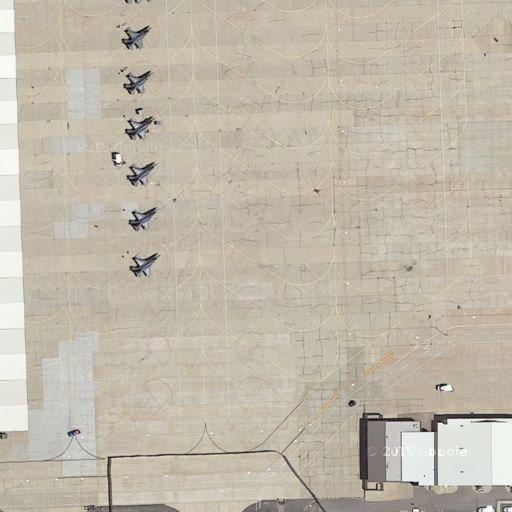F-16: (125, 249, 162, 281), (124, 156, 158, 189), (120, 23, 156, 53), (121, 68, 156, 98), (127, 205, 162, 233), (123, 115, 155, 142)
